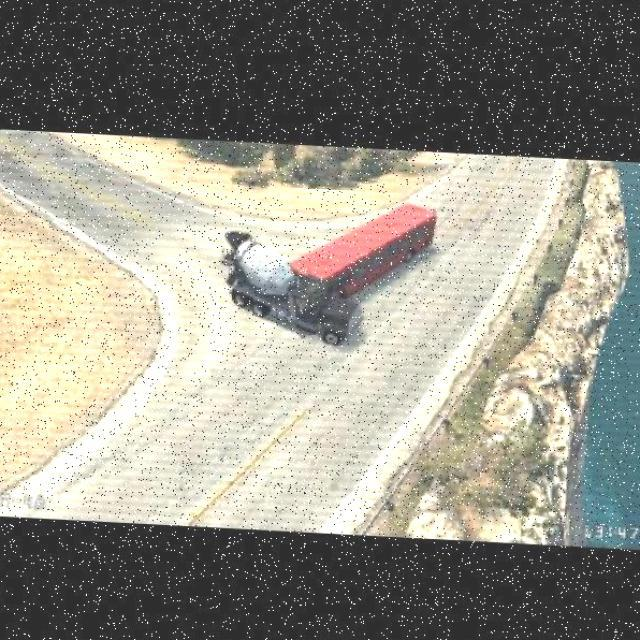accident: (199, 230, 390, 352)
